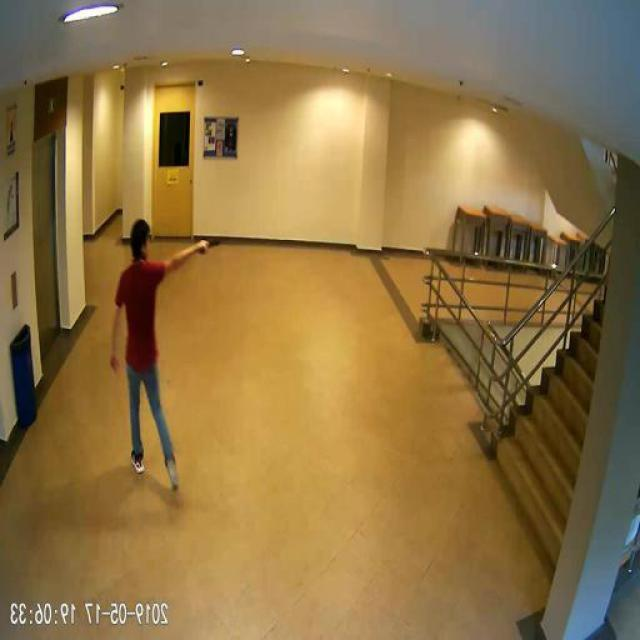weapon: (196, 238, 222, 256)
